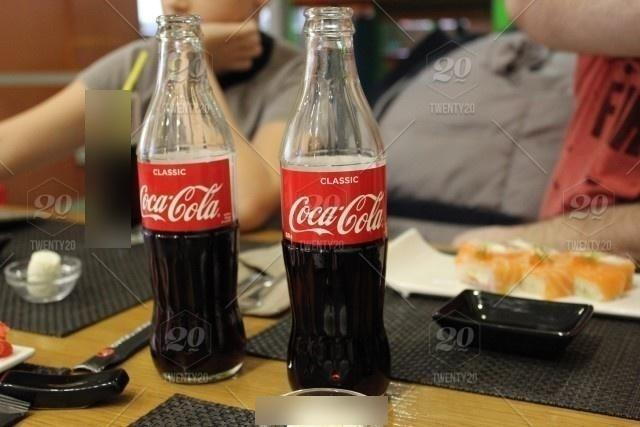bottle-glass: (276, 4, 394, 398), (134, 12, 250, 386)
